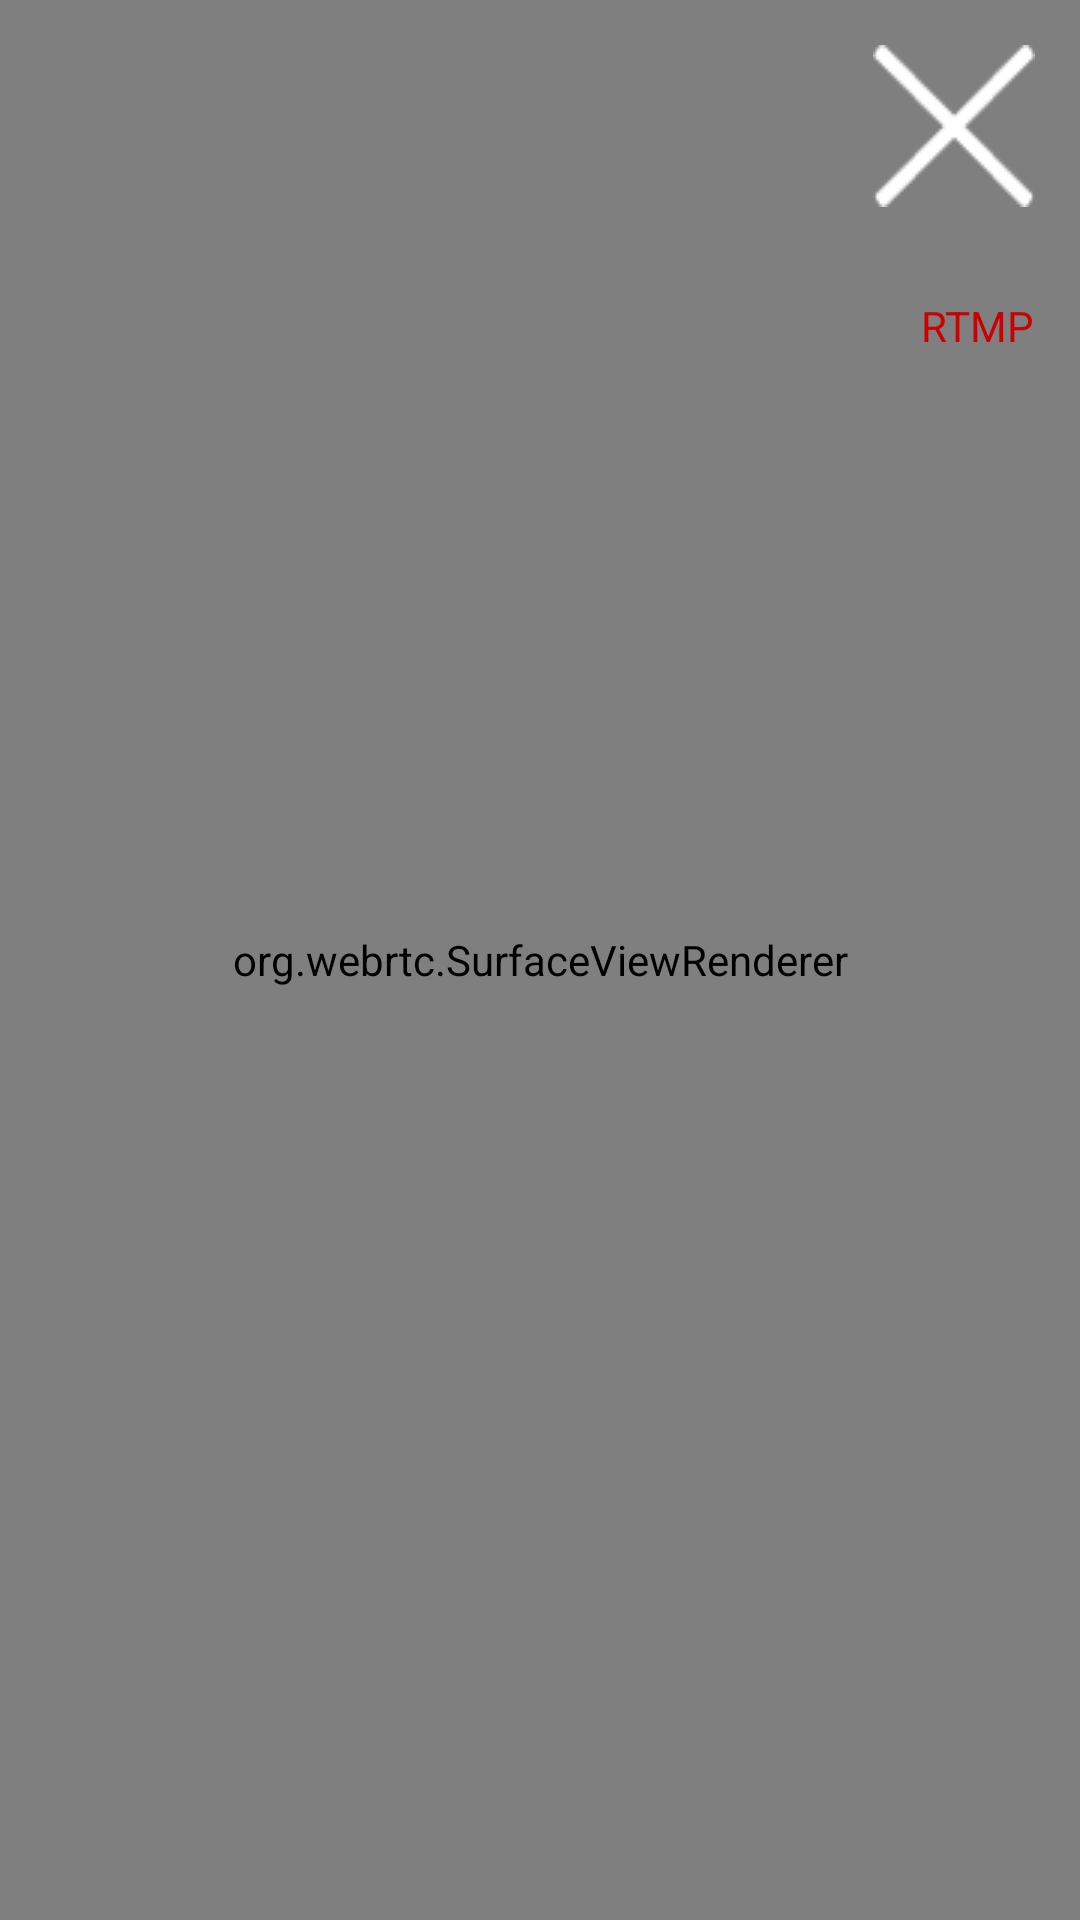

Where icons sit on this 1080*1920 app screen, as {"x1": x1, "y1": y1, "x2": x2, "y2": y2}:
close: {"x1": 873, "y1": 45, "x2": 1035, "y2": 207}
